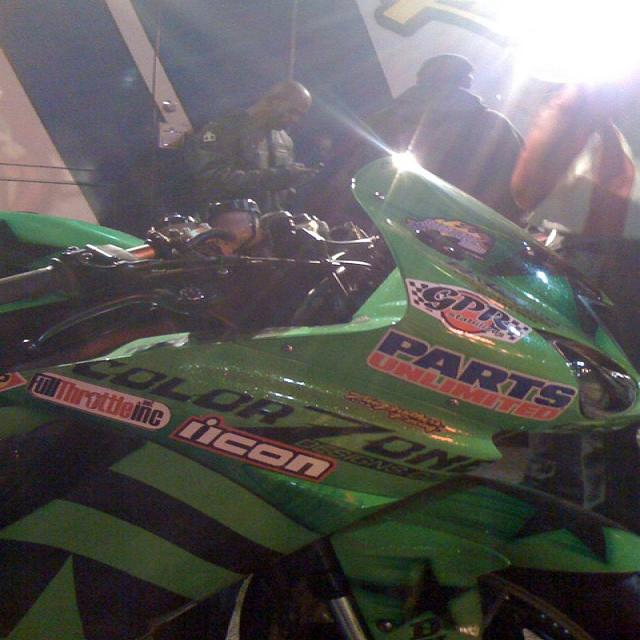motor: (3, 210, 206, 275)
